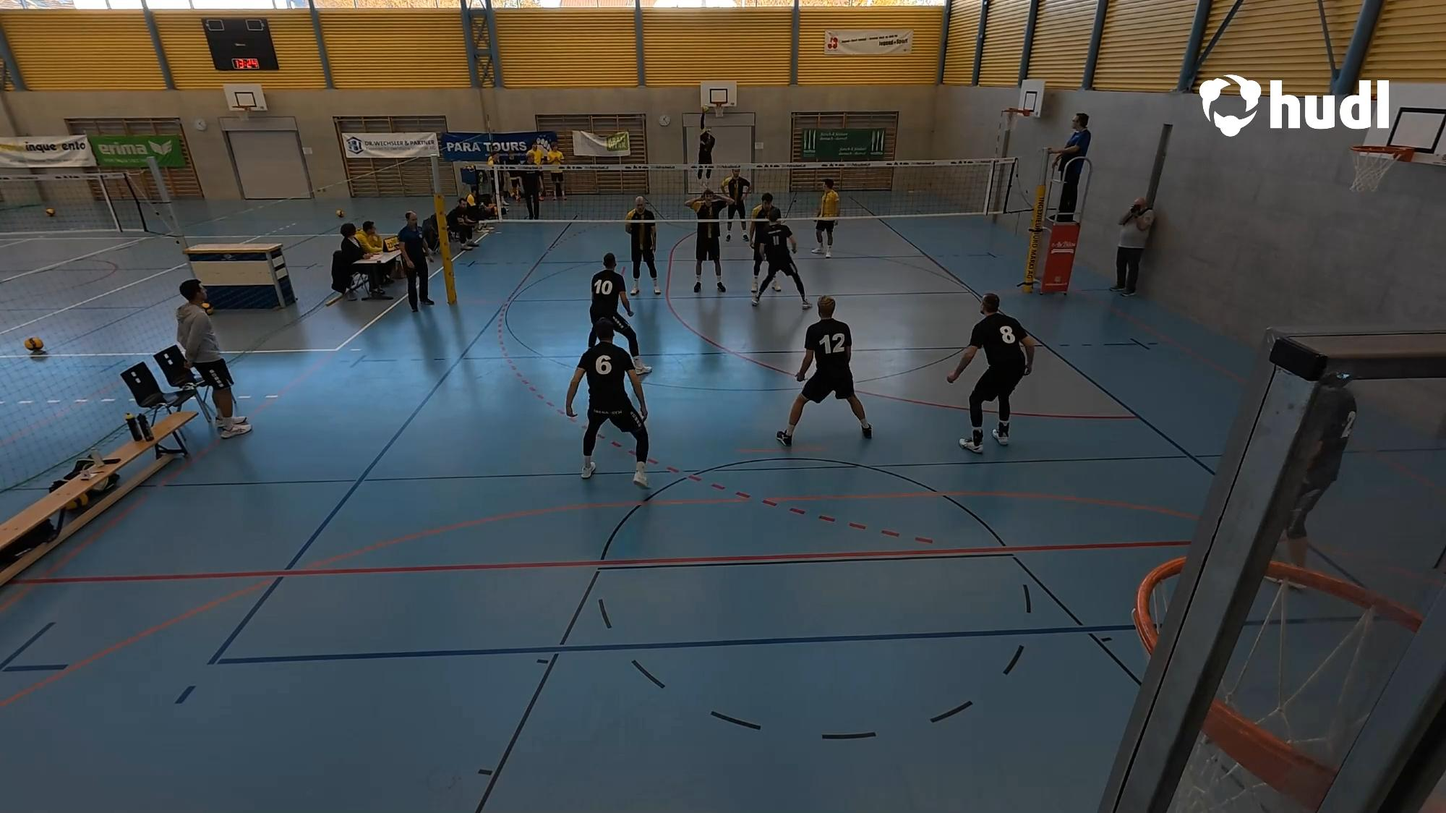Player: (1268, 374, 1363, 594), (776, 297, 873, 445), (950, 293, 1038, 456), (568, 325, 654, 489), (751, 207, 810, 310), (586, 255, 638, 357), (688, 182, 728, 297), (745, 187, 781, 294), (623, 196, 660, 299), (811, 182, 841, 261), (723, 169, 751, 239)
Serve: (695, 101, 716, 187)
ball: (699, 99, 710, 114)
